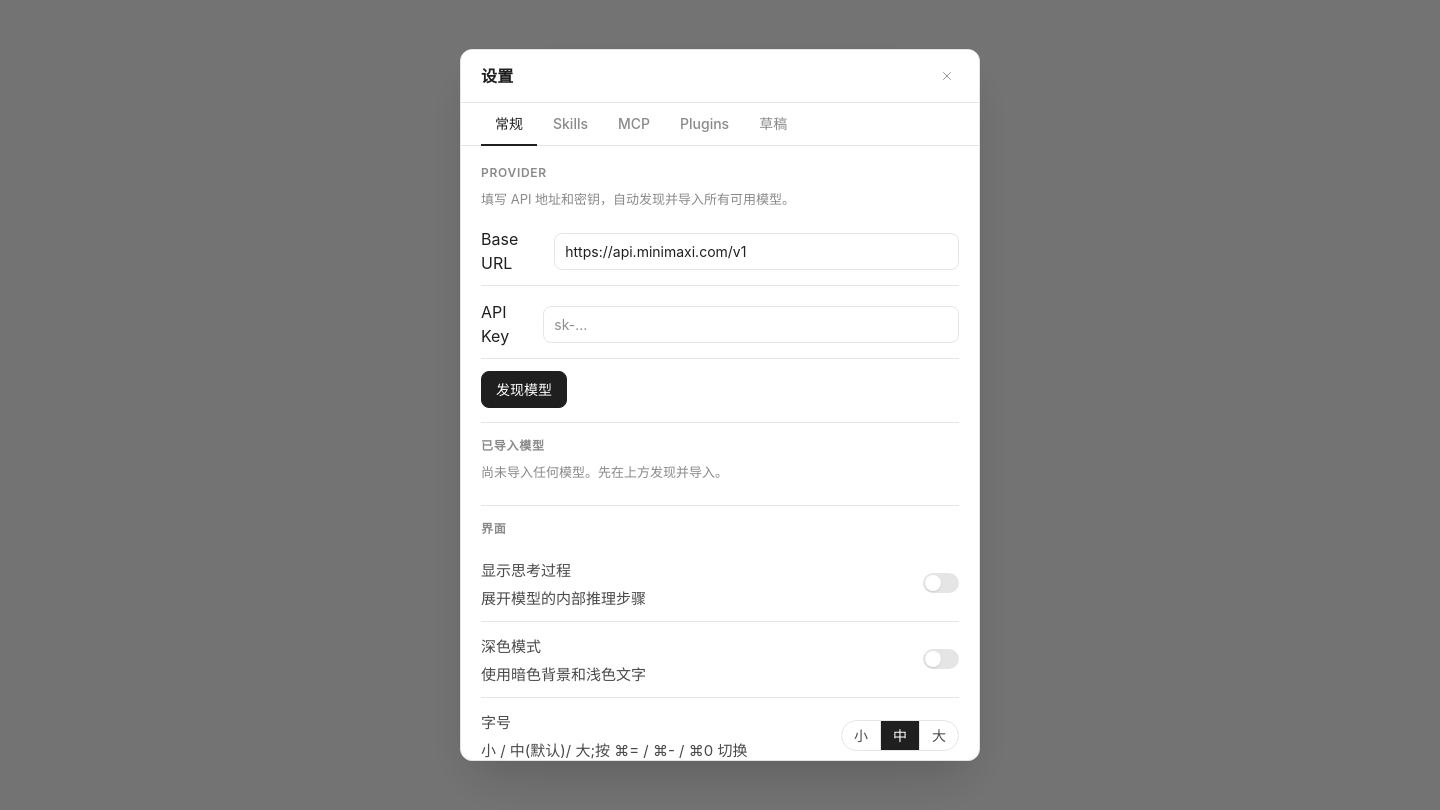
Test: PreferencesModal 草稿 tab › nexus-draft-_none 被过滤掉(只列真实 project)
The width and height of the screenshot is (1440, 810).
Click the tab "草稿": {"x": 773, "y": 124} [745,103,801,146]
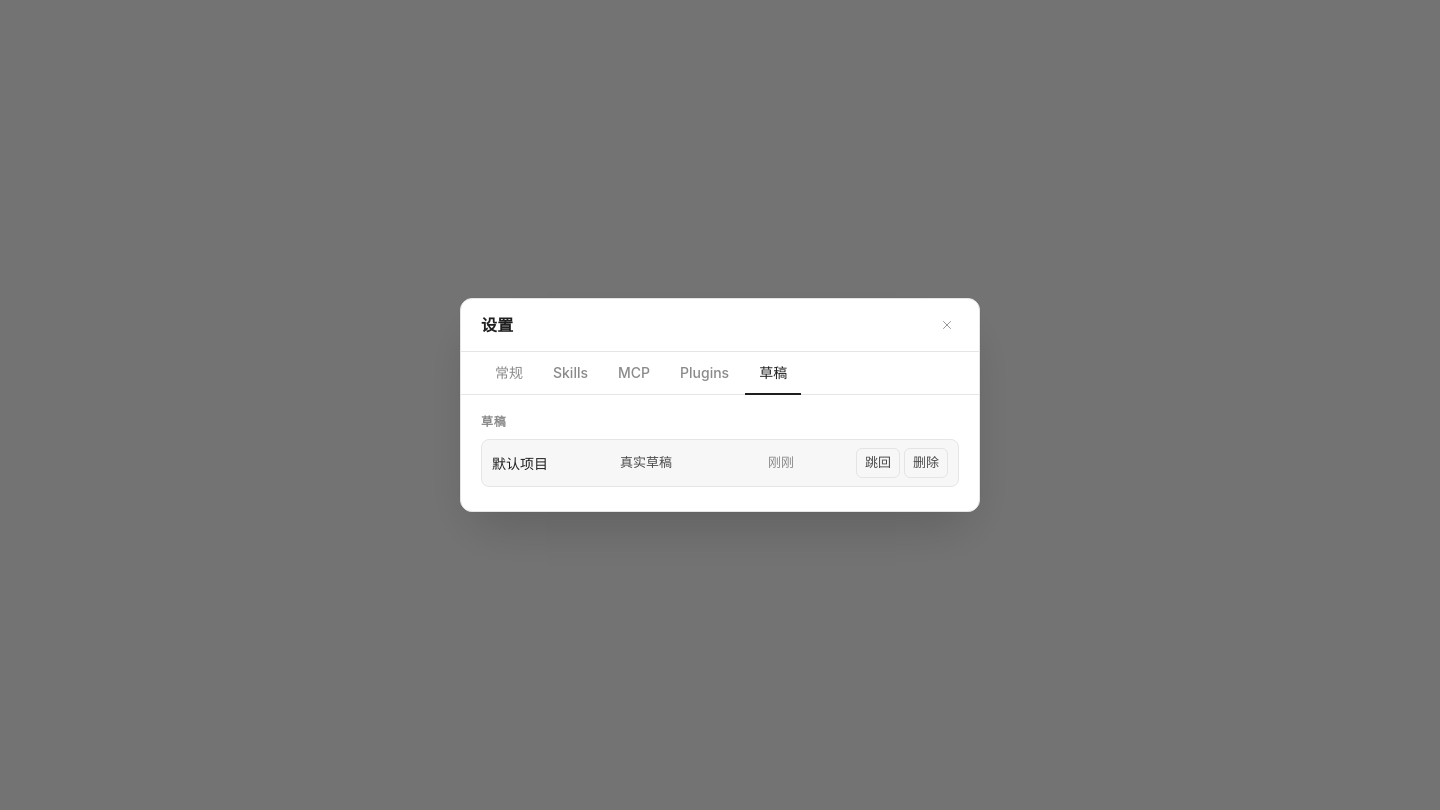
Check: the text "真实草稿" is shown, box [620,454,672,470]
